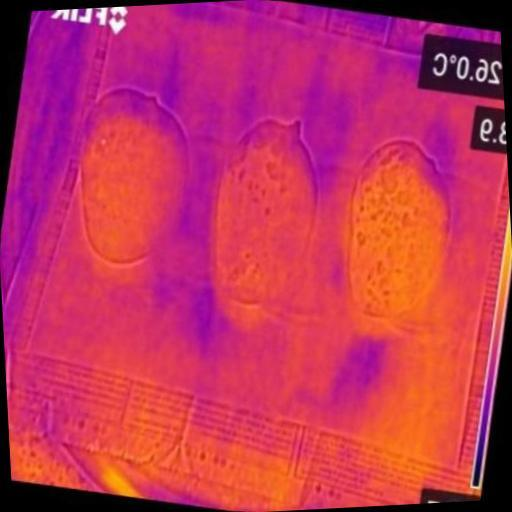alphanso: (213, 119, 316, 308), (80, 89, 187, 265), (349, 142, 449, 320)
